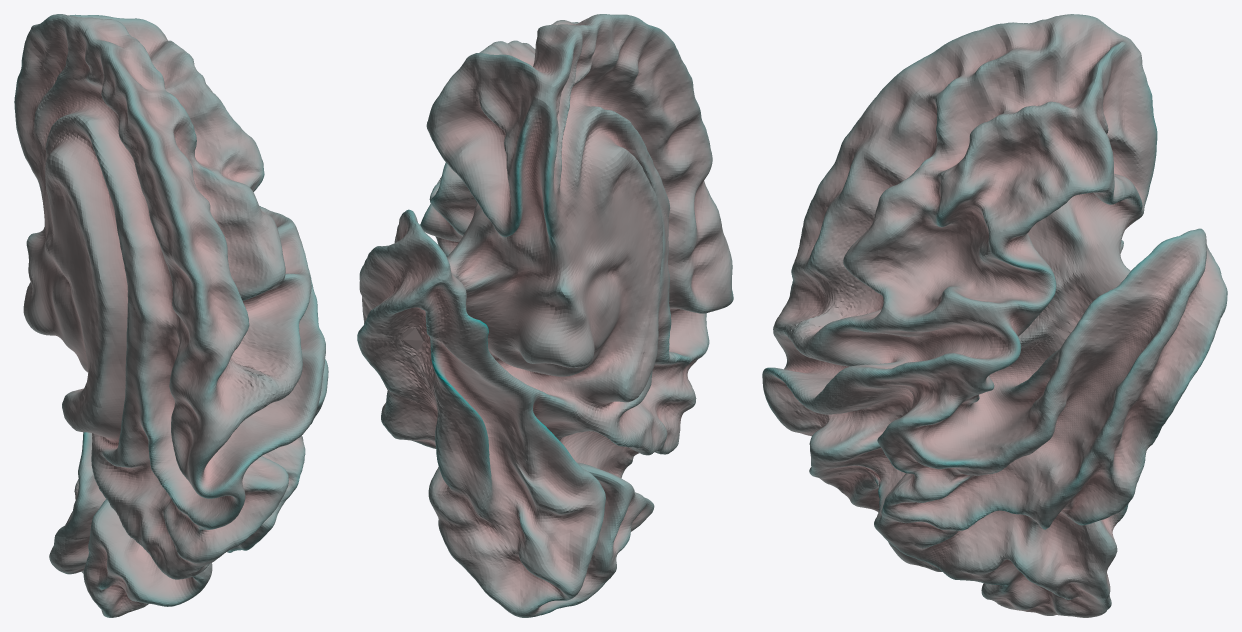
The model's file is cortex_rh_white.glb.
The picture shows the model from 3 angles, left to right: view 1: azimuth 30°, elevation 25°; view 2: azimuth 150°, elevation 25°; view 3: azimuth 270°, elevation 25°; orthographic projection.
Visible parts, largest first — view 1: world; view 2: world; view 3: world.
Part boxes in pixels (bbox=[...]): world: bbox=[14, 14, 328, 617]; world: bbox=[357, 14, 733, 617]; world: bbox=[762, 14, 1227, 617].
Size of the model in its own units: 67.7 by 167 by 120.
